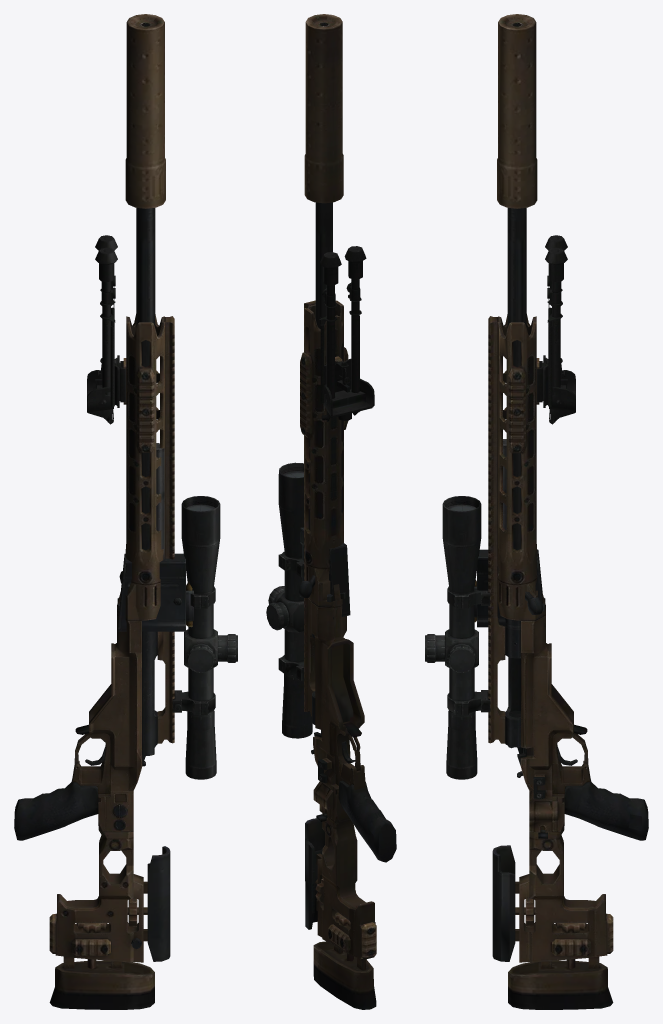
3 renders of one model, left to right at view 1: azimuth 90°, elevation 25°; view 2: azimuth 210°, elevation 25°; view 3: azimuth 270°, elevation 25°, orthographic. The views are drawn at different scales.
Parts seen in each view (by area): view 1: XM2010, Scope, model_Bipod, Model_Magazine, Model_Handle; view 2: XM2010, Scope, model_Bipod, Model_Magazine; view 3: XM2010, Scope, model_Bipod, Model_Magazine, Model_Handle.
Boxes of the visible parts, x1,y1,x2,y2 form: XM2010: [14, 14, 174, 1009]; Scope: [172, 496, 237, 779]; model_Bipod: [87, 235, 125, 424]; Model_Magazine: [117, 553, 193, 631]; Model_Handle: [119, 443, 165, 583]; XM2010: [300, 14, 396, 1009]; Scope: [266, 462, 312, 738]; model_Bipod: [319, 246, 374, 421]; Model_Magazine: [300, 527, 350, 619]; XM2010: [488, 14, 648, 1009]; Scope: [425, 496, 490, 779]; model_Bipod: [537, 235, 575, 424]; Model_Magazine: [474, 549, 545, 627]; Model_Handle: [503, 439, 543, 614].
Size of the model in its own units: 0.0878 by 1.34 by 0.2763.
3 materials, 3 textured.
